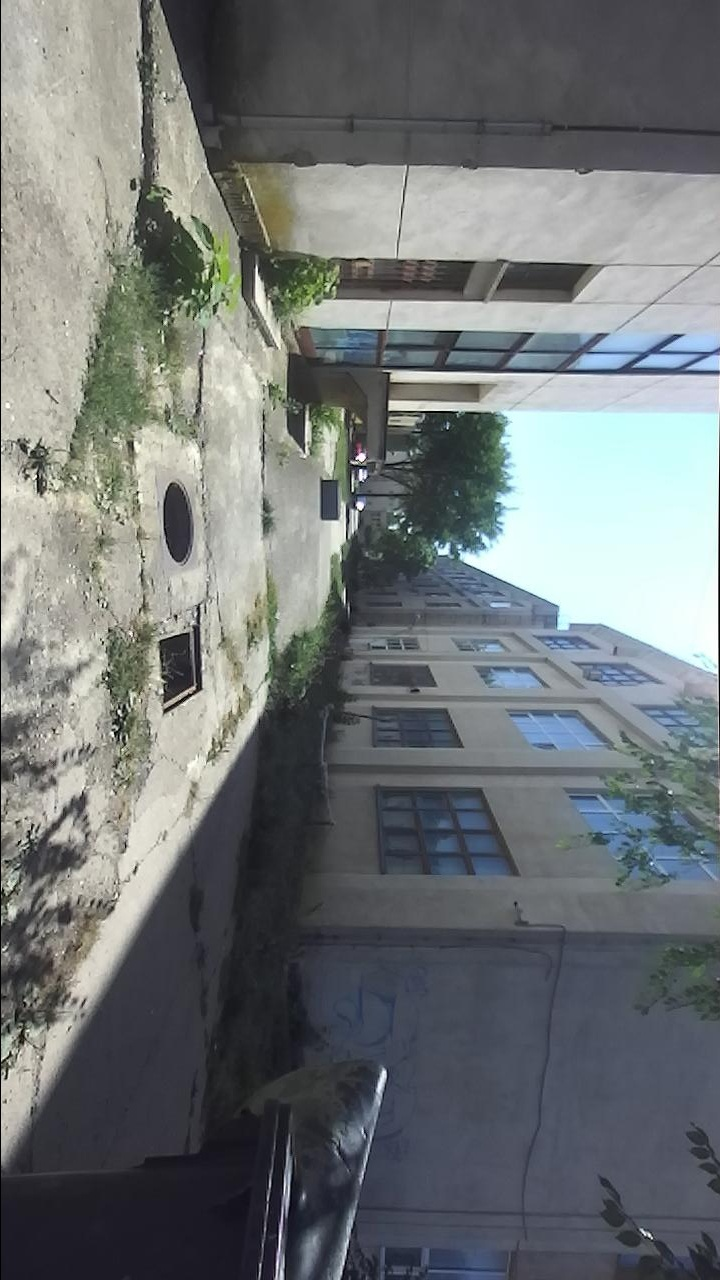drain: (152, 621, 208, 722), (161, 470, 199, 571)
